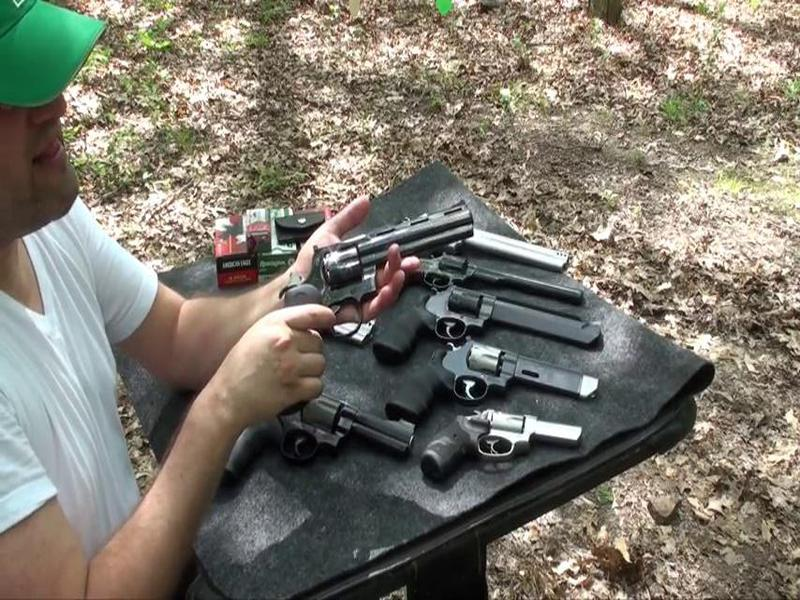Revolver: (283, 202, 482, 349)
